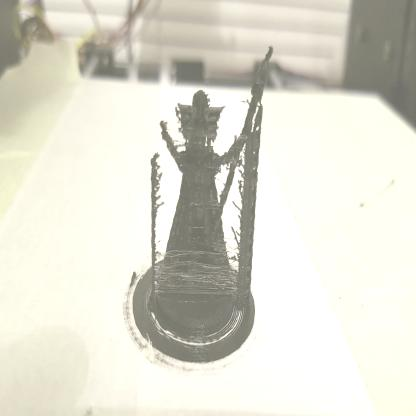fail: (157, 151, 165, 259), (235, 170, 245, 222), (172, 108, 186, 138), (230, 222, 242, 253)
